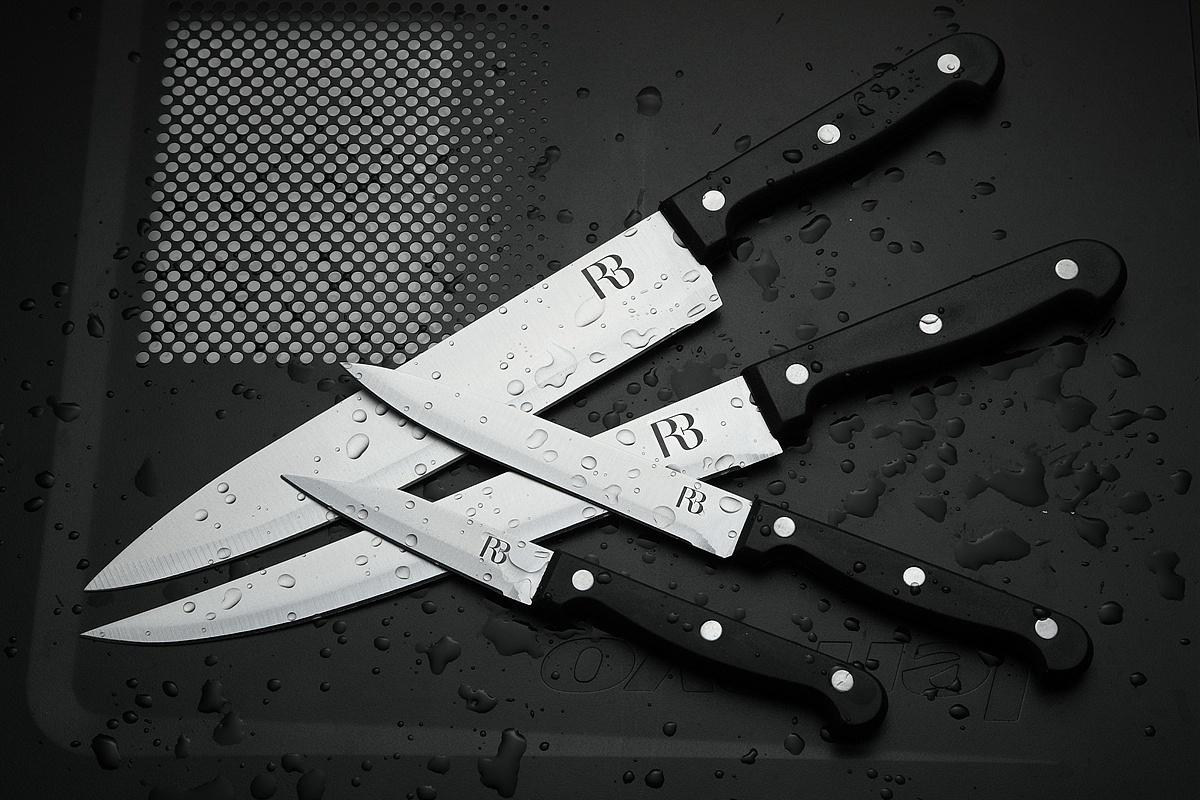knife: (22, 42, 1109, 745)
